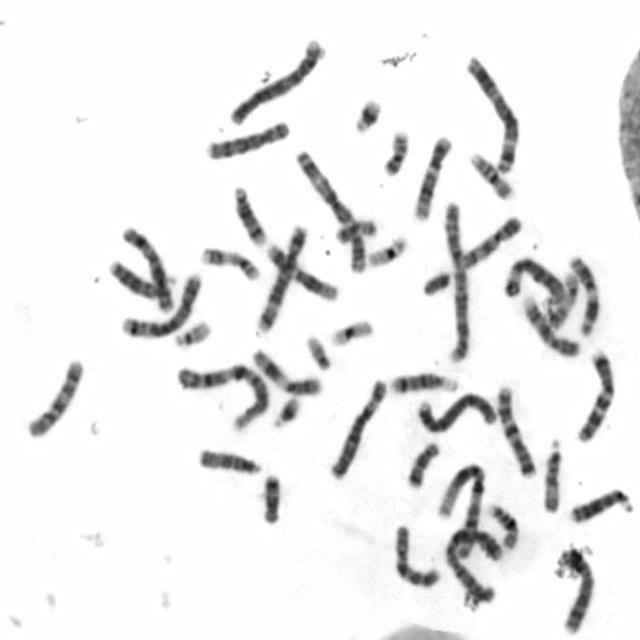A1: (173, 358, 271, 434), (435, 459, 487, 559)
A2: (441, 523, 504, 607), (440, 198, 471, 363)
A3: (292, 144, 367, 276), (462, 51, 522, 178)
B4: (225, 34, 325, 127), (412, 387, 499, 435)
B5: (253, 220, 310, 335), (117, 268, 204, 340)
C10: (22, 353, 87, 441), (391, 519, 442, 589)
C11: (247, 345, 323, 398), (564, 250, 602, 338)
C12: (262, 238, 340, 304), (409, 132, 454, 221)
C6: (326, 374, 388, 481), (498, 252, 566, 304)
C7: (571, 345, 618, 446), (493, 382, 538, 478)
C8: (202, 116, 292, 162), (561, 548, 594, 636)
C9: (518, 292, 581, 359), (452, 212, 525, 269)
D13: (105, 255, 175, 310), (566, 484, 633, 525)
D14: (230, 182, 268, 248), (387, 368, 459, 396)
D15: (195, 444, 262, 476), (540, 434, 564, 514)
E16: (467, 147, 514, 201), (484, 500, 520, 549)
E17: (198, 242, 262, 282), (543, 267, 581, 330)
E18: (402, 438, 440, 488), (258, 469, 284, 526)
F19: (365, 232, 409, 270), (326, 316, 375, 348)
F20: (380, 126, 411, 179), (332, 213, 379, 246)
G21: (348, 94, 385, 136), (269, 392, 303, 431)
G22: (170, 316, 213, 349), (302, 331, 333, 372)
X: (118, 222, 174, 315)
Y: (420, 267, 452, 298)
